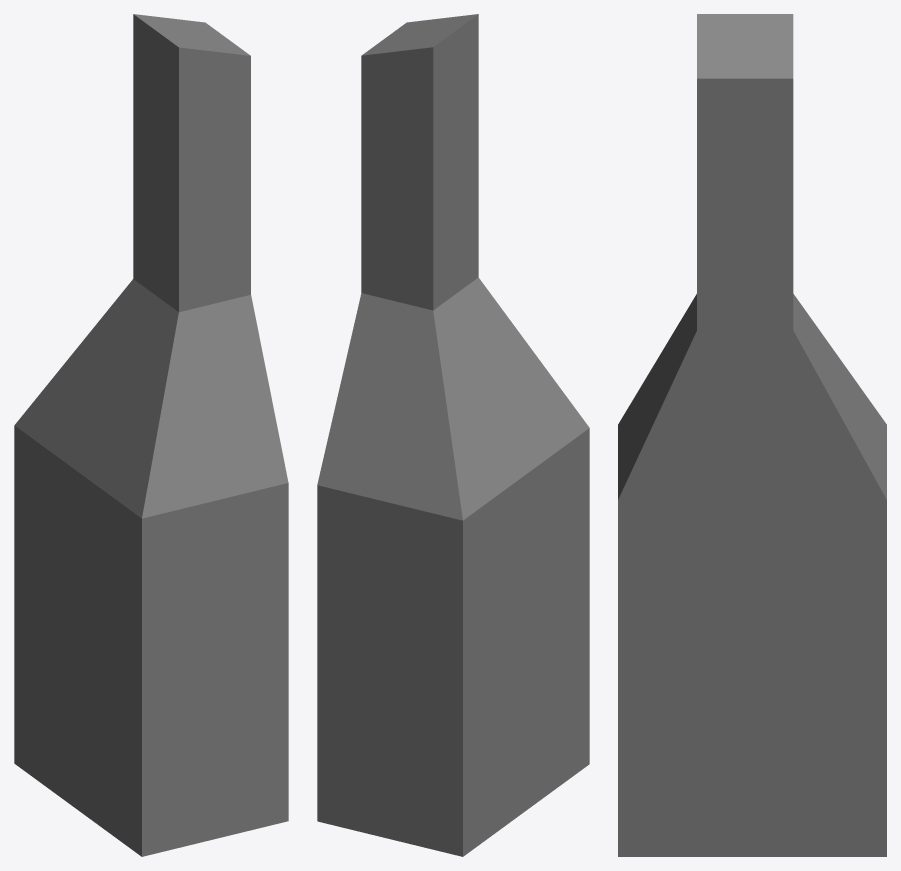
The model's file is pillar_4.fbx.
The picture shows the model from 3 angles, left to right: view 1: azimuth 30°, elevation 25°; view 2: azimuth 150°, elevation 25°; view 3: azimuth 270°, elevation 25°; orthographic projection. The views are drawn at different scales.
Parts seen in each view (by area): view 1: Object.029; view 2: Object.029; view 3: Object.029.
Part boxes in pixels (x1,y1,x2,y2): Object.029: (14,14,288,856); Object.029: (317,14,589,856); Object.029: (618,14,886,856).
Size of the model in its own units: 174 by 865 by 262.
